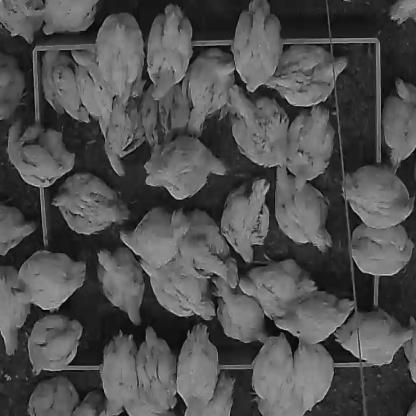chicken: (272, 163, 335, 254), (262, 41, 347, 107), (172, 204, 238, 288), (138, 251, 217, 321), (224, 85, 289, 170), (50, 168, 126, 234), (94, 15, 144, 113), (142, 140, 223, 200), (6, 120, 74, 191), (238, 261, 316, 320), (188, 47, 238, 139), (11, 252, 87, 312), (231, 1, 281, 92), (340, 168, 414, 229), (148, 1, 193, 100), (281, 107, 335, 189), (332, 310, 411, 366), (270, 292, 353, 345), (95, 246, 148, 329), (210, 279, 273, 347), (220, 176, 269, 262), (118, 209, 191, 266), (178, 323, 219, 416), (140, 79, 192, 152), (24, 314, 85, 376), (41, 46, 90, 123), (290, 333, 336, 415), (349, 219, 411, 279), (136, 323, 176, 416), (381, 75, 416, 176), (98, 93, 141, 175), (74, 44, 111, 137), (27, 314, 83, 375), (252, 331, 292, 416), (102, 329, 135, 415), (0, 264, 28, 357), (183, 374, 233, 416), (27, 376, 79, 415), (42, 1, 96, 36), (1, 202, 33, 261), (1, 1, 42, 43), (0, 52, 24, 119), (73, 390, 105, 415), (390, 1, 416, 26)
